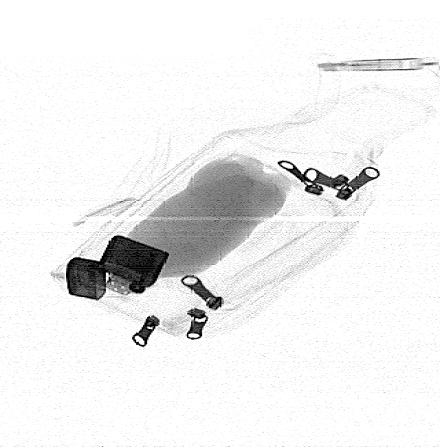Lighter: (67, 234, 172, 301)
